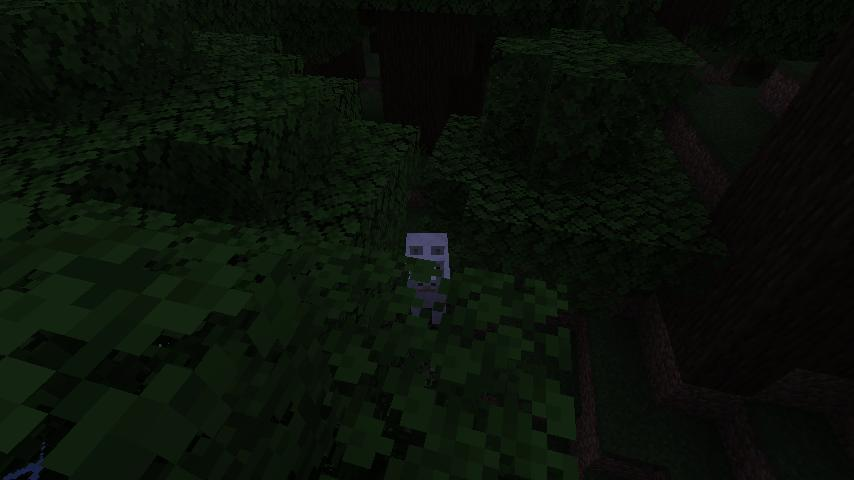llama: (401, 227, 454, 321)
